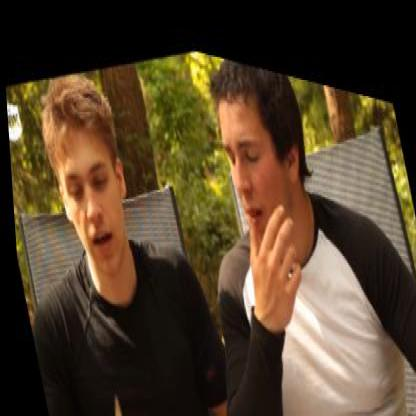knife: (79, 361, 137, 414)
